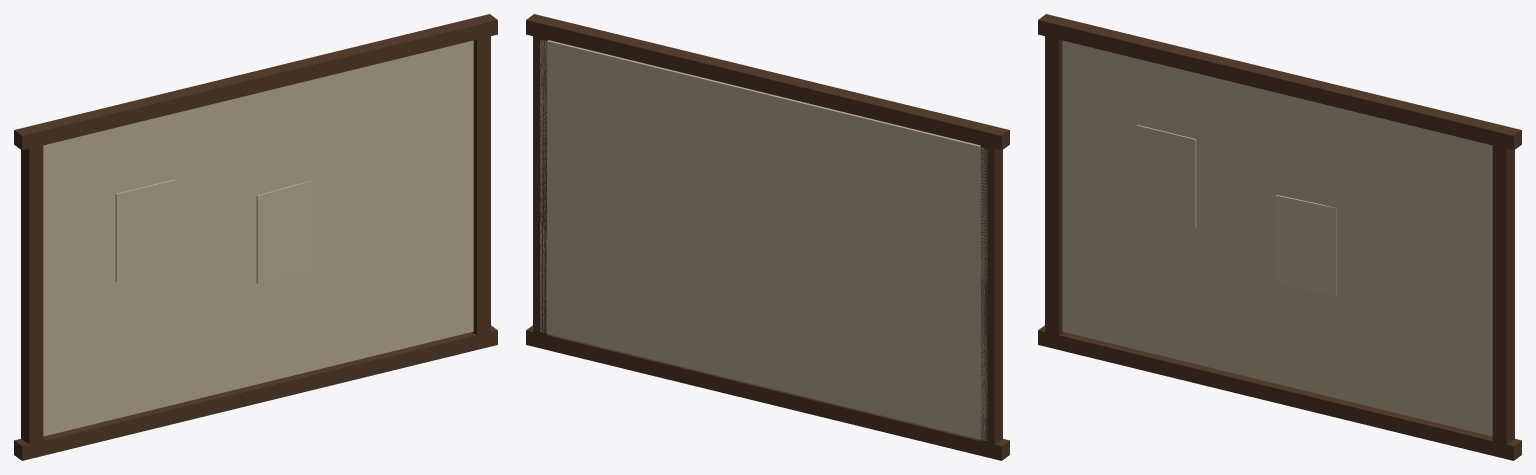
File: SM_P2_Notice_Board_A.obj
The picture shows the model from 3 angles, left to right: view 1: azimuth 30°, elevation 25°; view 2: azimuth 150°, elevation 25°; view 3: azimuth 330°, elevation 25°; orthographic projection.
Visible parts, largest first — view 1: cork_field, frame_t, frame_b, frame_l, frame_r, notice_a, notice_b; view 2: cork_field, frame_t, frame_b, frame_l, frame_r; view 3: cork_field, frame_t, frame_b, frame_r, notice_b, frame_l, notice_a.
Boxes of the visible parts, x1,y1,x2,y2 form: cork_field: (43, 40, 473, 436); frame_t: (14, 14, 497, 150); frame_b: (14, 325, 497, 460); frame_l: (21, 138, 43, 451); frame_r: (472, 29, 490, 342); notice_a: (115, 179, 175, 281); notice_b: (256, 180, 314, 283); cork_field: (540, 39, 987, 440); frame_t: (526, 14, 1009, 150); frame_b: (526, 325, 1009, 460); frame_l: (980, 138, 1002, 451); frame_r: (533, 29, 547, 342); cork_field: (1062, 40, 1492, 436); frame_t: (1038, 14, 1521, 150); frame_b: (1038, 325, 1521, 460); frame_r: (1492, 138, 1514, 451); notice_b: (1275, 195, 1336, 295); frame_l: (1045, 29, 1063, 342); notice_a: (1136, 125, 1196, 227).
Bounding box in the file's own units: 1.7 × 1.11 × 0.05.
